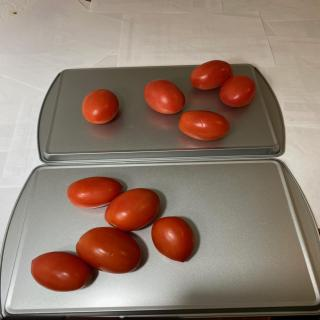Tomato: (76, 227, 142, 274), (31, 251, 92, 292), (105, 188, 160, 231), (151, 216, 195, 262), (67, 176, 123, 208), (178, 110, 230, 141), (144, 79, 186, 114), (82, 89, 119, 124), (190, 60, 233, 90), (220, 75, 256, 108)
